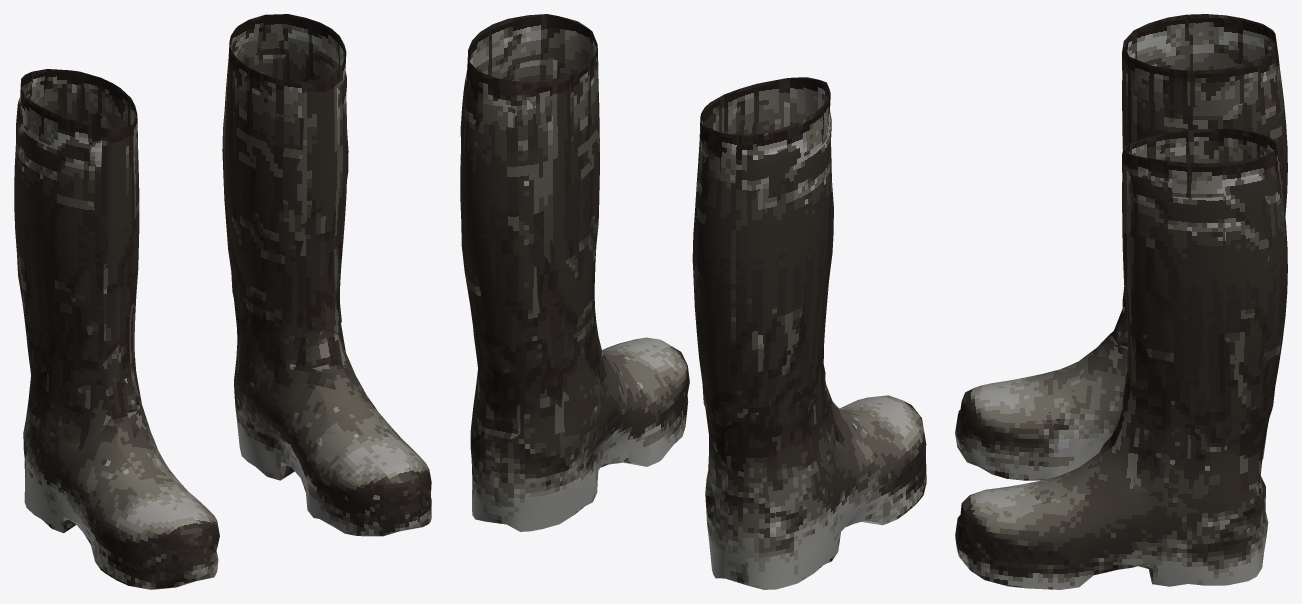
The model's file is rubber_boots.glb.
3 views of the same model, side by side, from view 1: azimuth 30°, elevation 25°; view 2: azimuth 150°, elevation 25°; view 3: azimuth 270°, elevation 25° (orthographic). The views are drawn at different scales.
Parts seen in each view (by area): view 1: body; view 2: body; view 3: body.
Part boxes in pixels (bbox=[...]): body: bbox=[14, 14, 431, 589]; body: bbox=[460, 14, 926, 589]; body: bbox=[955, 14, 1287, 589].
Bounding box in the file's own units: 0.2893 × 0.3728 × 0.2645.
Materials: 1 (1 with a texture image).
